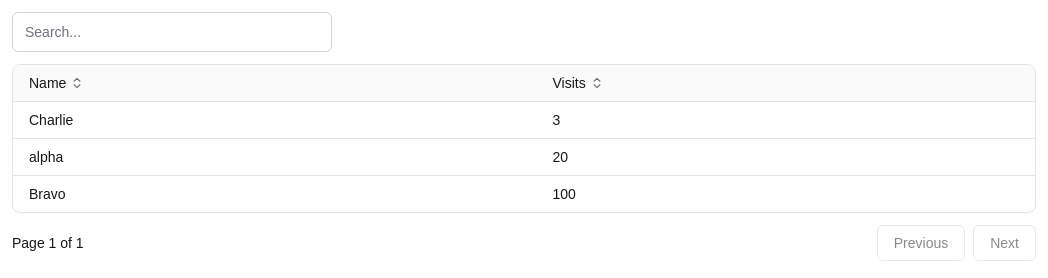
DataTable › filters rows from the search box and says when nothing matches
Type "bra" into the search field at (172, 32), box [12,12,332,52]
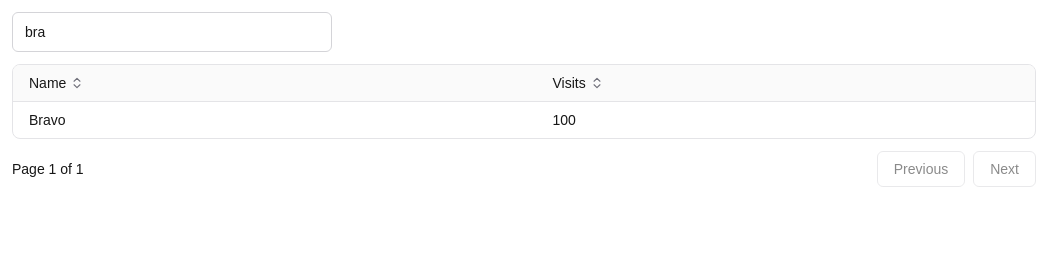
Replace the text in the search field with "zzz" at (172, 32), box [12,12,332,52]
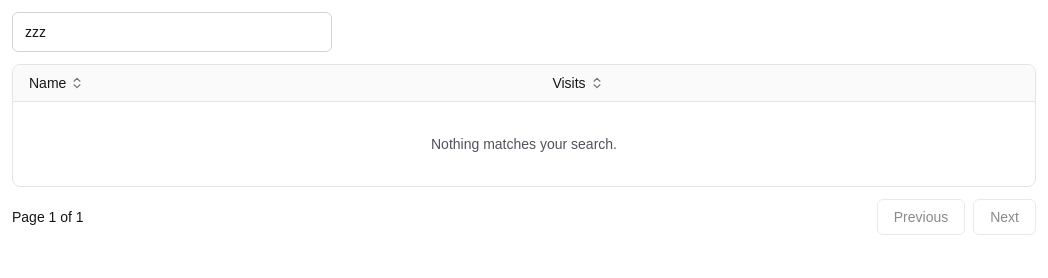
Now the text "Nothing matches your search." is shown, box [13,102,1035,186]
